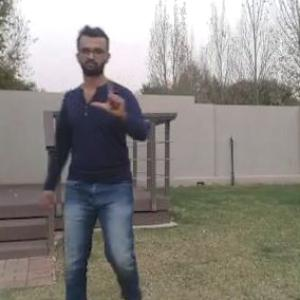land_hand: (89, 73, 130, 122)
